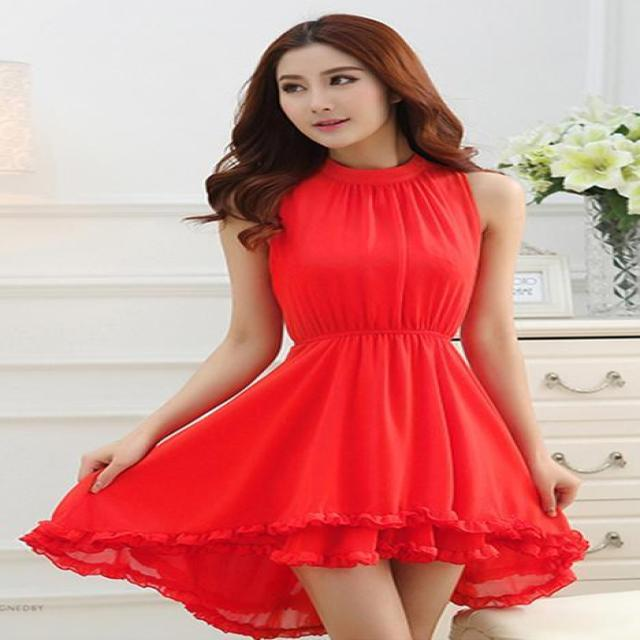vest dress: (23, 153, 591, 569)
